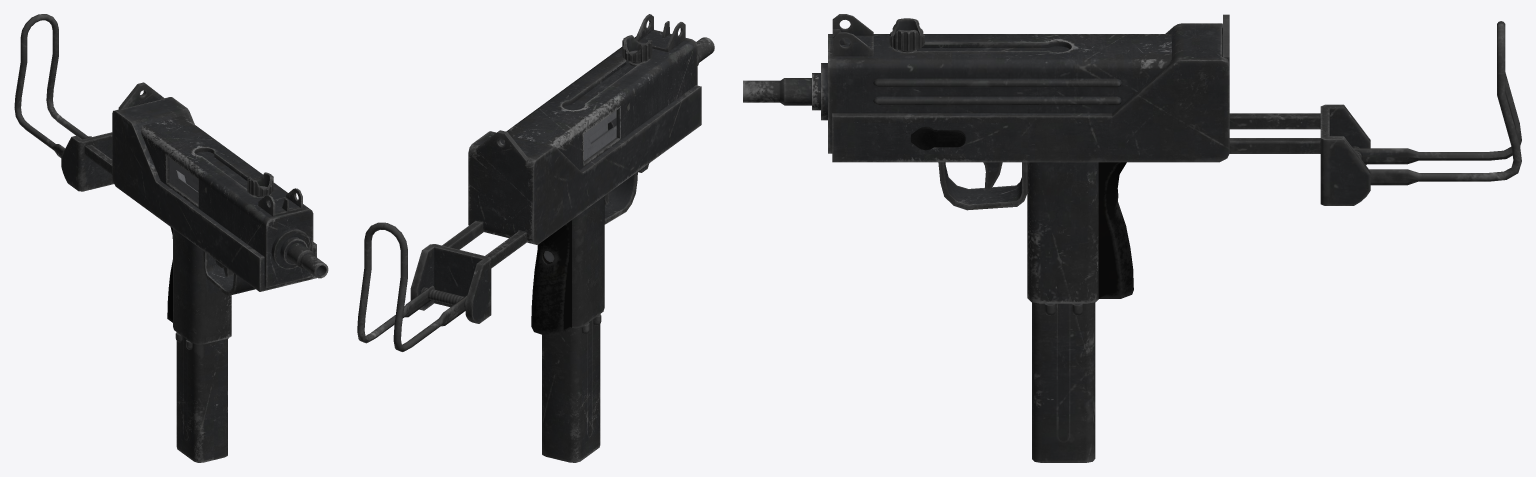
The model's file is mac 10.fbx.
The picture shows the model from 3 angles, left to right: view 1: azimuth 30°, elevation 25°; view 2: azimuth 150°, elevation 25°; view 3: azimuth 270°, elevation 25°; orthographic projection. The views are drawn at different scales.
Parts seen in each view (by area): view 1: body2_lp, body_lp, mag_lp, stockplate_lp, stockwire_lp, barrel_lp, sight_lp, inside_lp, pullback_lp; view 2: body2_lp, body_lp, mag_lp, stockplate_lp, grip_lp, stockwire_lp, sight_lp, inside_lp, pullback_lp, barrel_lp, stockrotator_lp; view 3: body2_lp, body_lp, mag_lp, stockplate_lp, stockwire_lp, grip_lp, barrel_lp, sight_lp, pullback_lp, fireselect_lp.
Part boxes in pixels (box(x1,y1,x2,y2)): body2_lp: box(112, 82, 316, 344); body_lp: box(140, 116, 313, 287); mag_lp: box(175, 332, 228, 462); stockplate_lp: box(61, 132, 113, 191); stockwire_lp: box(14, 14, 91, 157); barrel_lp: box(271, 228, 328, 278); sight_lp: box(258, 188, 302, 216); inside_lp: box(169, 159, 198, 202); pullback_lp: box(247, 172, 273, 197); body2_lp: box(468, 85, 701, 328); body_lp: box(506, 37, 697, 169); mag_lp: box(542, 314, 601, 462); stockplate_lp: box(410, 221, 526, 323); grip_lp: box(531, 220, 571, 335); stockwire_lp: box(357, 222, 467, 351); sight_lp: box(635, 14, 685, 52); inside_lp: box(584, 110, 616, 160); pullback_lp: box(622, 35, 652, 66); barrel_lp: box(608, 37, 714, 130); stockrotator_lp: box(421, 287, 466, 307); body2_lp: box(832, 14, 1229, 303); body_lp: box(828, 34, 1171, 153); mag_lp: box(1032, 302, 1095, 462); stockplate_lp: box(1229, 104, 1370, 205); stockwire_lp: box(1353, 21, 1521, 185); grip_lp: box(1098, 162, 1133, 298); barrel_lp: box(743, 63, 827, 120); sight_lp: box(832, 14, 873, 56); pullback_lp: box(889, 18, 924, 52); fireselect_lp: box(911, 127, 965, 150).
Size of the model in its own units: 687 by 3169 by 5141.
